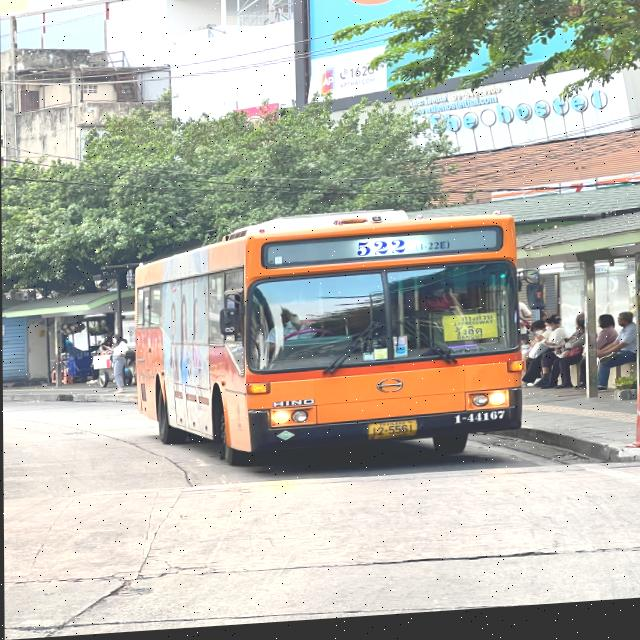BMTA-bus: (129, 210, 525, 481)
Bus-Line-Number: (345, 238, 452, 267)
Destination-Sign-Normal-Expressway: (439, 320, 497, 348)
